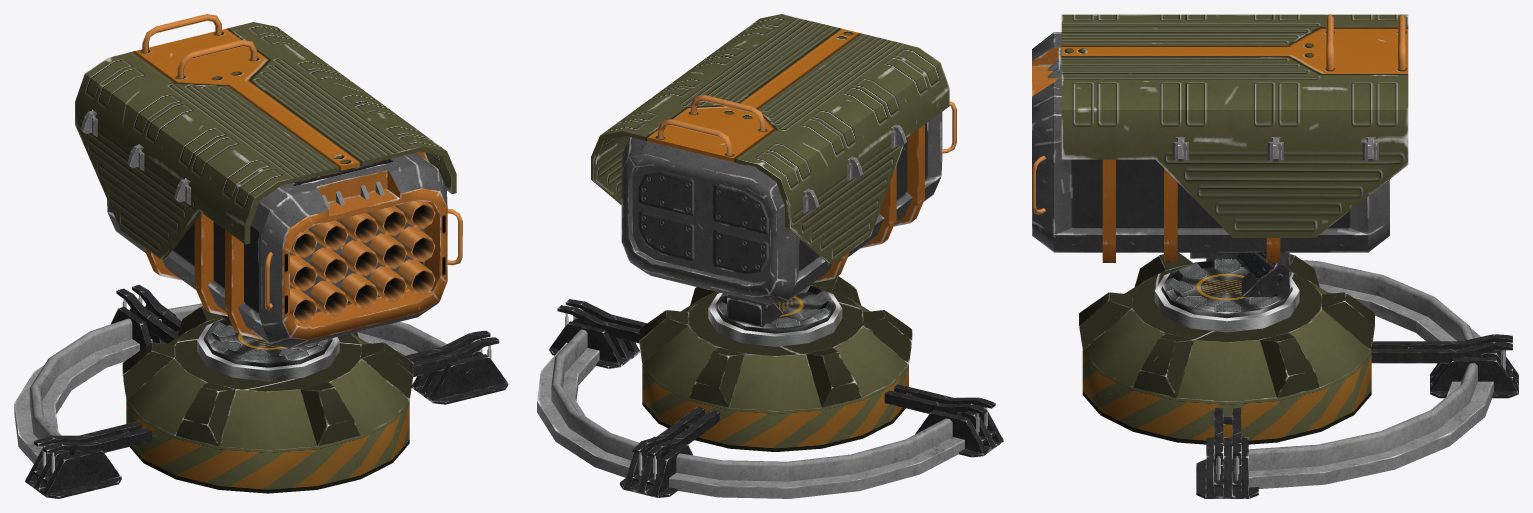
The model's file is mini_turret_tower_09.fbx.
3 views of the same model, side by side, from view 1: azimuth 30°, elevation 25°; view 2: azimuth 150°, elevation 25°; view 3: azimuth 270°, elevation 25° (orthographic). The views are drawn at different scales.
Parts seen in each view (by area): view 1: body (×2), cover, barrels, holder (×2), leg_bottom (×3), leg_arm (×3), decor; view 2: body (×2), cover, holder (×2), leg_arm (×3), leg_bottom (×3), decor (×2); view 3: cover, body (×2), holder (×2), leg_bottom (×2), leg_arm (×2), decor (×2).
Boxes of the visible parts, left/top/right/bottom form: body (×2): left=107, top=151, right=462, bottom=493; cover: left=75, top=14, right=456, bottom=259; barrels: left=290, top=200, right=435, bottom=323; holder (×2): left=14, top=303, right=446, bottom=463; leg_bottom (×3): left=25, top=304, right=508, bottom=498; leg_arm (×3): left=34, top=284, right=499, bottom=483; decor: left=197, top=318, right=339, bottom=381; body (×2): left=621, top=101, right=956, bottom=451; cover: left=591, top=14, right=949, bottom=263; holder (×2): left=537, top=285, right=964, bottom=498; leg_arm (×3): left=557, top=299, right=995, bottom=485; leg_bottom (×3): left=549, top=317, right=1003, bottom=497; decor (×2): left=708, top=292, right=842, bottom=346; cover: left=1061, top=14, right=1408, bottom=237; body (×2): left=1032, top=32, right=1389, bottom=445; holder (×2): left=1161, top=259, right=1493, bottom=488; leg_bottom (×2): left=1196, top=350, right=1518, bottom=498; leg_arm (×2): left=1214, top=334, right=1512, bottom=487; decor (×2): left=1154, top=252, right=1299, bottom=332.
Size of the model in its own units: 7.52 by 5.45 by 6.74.
